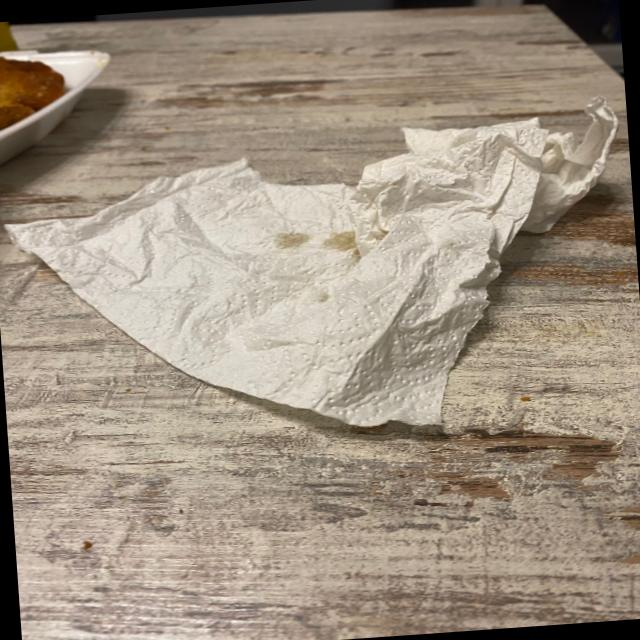organic waste: (0, 97, 634, 458)
